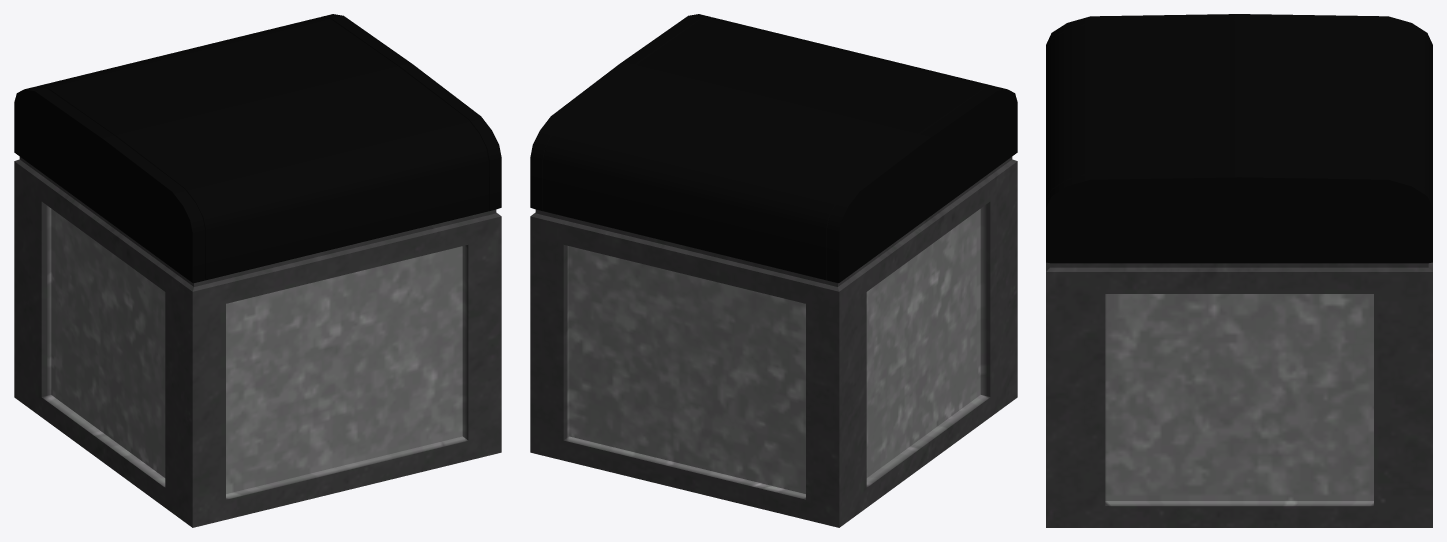
File: Chair1.fbx
3 views of the same model, side by side, from view 1: azimuth 30°, elevation 25°; view 2: azimuth 150°, elevation 25°; view 3: azimuth 270°, elevation 25° (orthographic). The views are drawn at different scales.
Parts seen in each view (by area): view 1: SM_Chair_Cube; view 2: SM_Chair_Cube; view 3: SM_Chair_Cube.
Boxes of the visible parts, x1,y1,x2,y2 form: SM_Chair_Cube: (14,14,501,527); SM_Chair_Cube: (530,14,1017,527); SM_Chair_Cube: (1046,14,1432,527).
Bounding box in the file's own units: 64 × 64 × 64.
